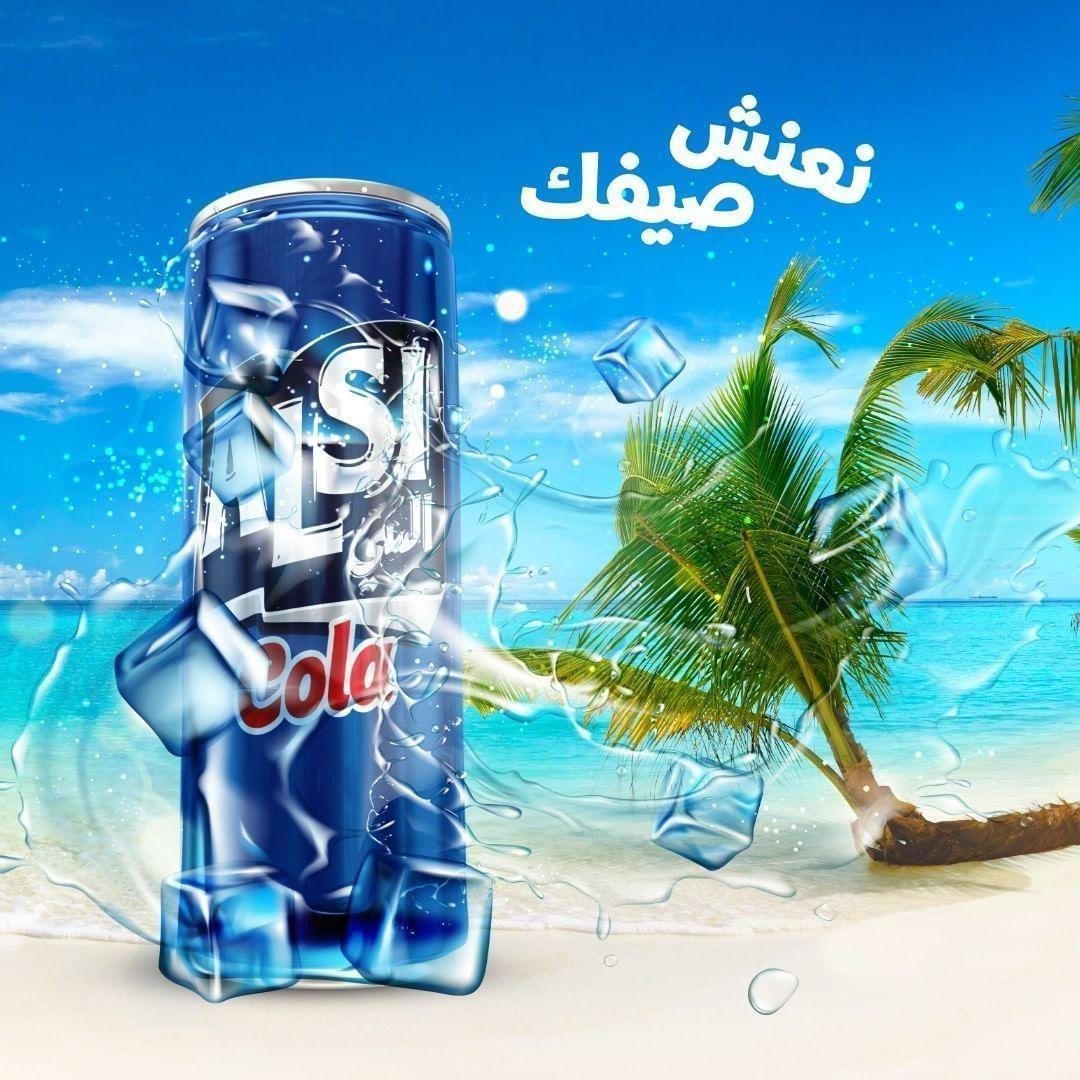tin can: (171, 168, 488, 999)
